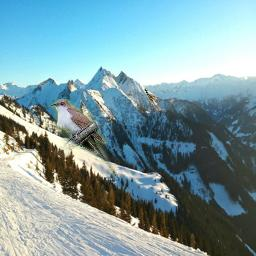Cuckoo: (51, 100, 117, 177), (145, 89, 158, 106)
